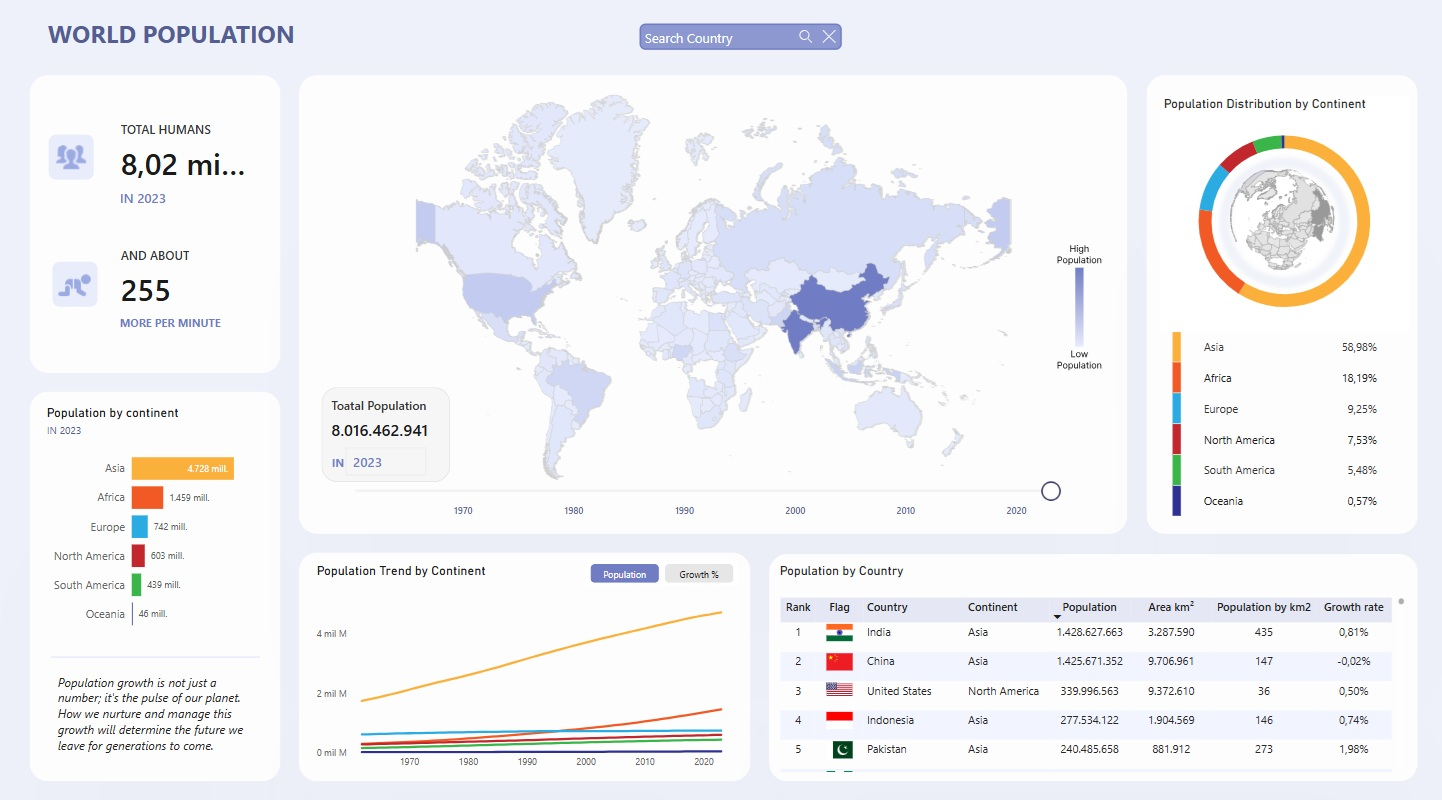

This screenshot's page, from the dashboard's own definition file:
{"tool":"powerbi","page":{"name":"Population","canvas":[1920,1080],"ordinal":0},"visuals":[{"type":"group","id":"g1","title":"Map","box":[401,101,1100,578.7],"z":0},{"type":"shapeMap","fields":{"Category":["Country2.Country"],"Value":["Sum(Country2.Value)"]},"box":[401.7,101.1,1099.3,578.6],"z":0,"group":"g1"},{"type":"shapeMap","fields":{"Category":["Countries.Country"],"Value":["Population.Latest Population Count"]},"box":[1625.3,216,162.6,166.8],"z":0,"group":"g3"},{"type":"clusteredColumnChart","fields":{"Y":["Population.Total Population 2"],"Category":["Years.Date"]},"box":[465.7,593.8,963.7,112],"z":0,"group":"g2"},{"type":"shapeMap","fields":{"Category":["Countries.Country"],"Value":["Population.Latest Population Count"]},"box":[401,101,1098.4,578],"z":1000,"group":"g1"},{"type":"shape","box":[1614.8,208.4,190,190],"z":1000,"group":"g3"},{"type":"slicer","fields":{"Values":["Years2.Years2"]},"box":[448,594.1,972.3,122.4],"z":1000,"group":"g2"},{"type":"tableEx","title":"Population by Country","fields":{"Values":["_Measures.Ranking","Countries.Flag","Countries.Country","Countries.Continent","Population.Latest Population Count","Countries.Area km²","Population.Population by km2","_Measures.Growth rate 2"]},"box":[1033.7,756.7,840.8,282.6],"z":1000},{"type":"tableEx","fields":{"Values":["Countries.Continent 2","Countries.Blank","Countries.Continent","Population.Latest Population Count"]},"box":[1554.7,395.6,319.8,314.3],"z":2000},{"type":"textbox","box":[422.7,608.6,41.3,34.5],"z":2000,"group":"g2"},{"type":"cardVisual","title":"TOTAL HUMANS","fields":{"Data":["Population.Latest Population Count"]},"box":[419,508.1,186.2,146.3],"z":3000},{"type":"lineChart","fields":{"Y":["_Measures.Total Population"],"Series":["Countries.Continent"],"Category":["Years.Year"]},"box":[418.2,757,568.7,282.4],"z":4000},{"type":"cardVisual","title":"TOTAL HUMANS","fields":{"Data":["Population.Latest Population Count"]},"box":[145,151.6,207.5,102.4],"z":5000},{"type":"cardVisual","title":"ABOUT","fields":{"Data":["Population.Birt Rate per minute"]},"box":[145.3,319.2,196.8,107.7],"z":6000},{"type":"multiRowCard","fields":{"Values":["Years.in Year label"]},"box":[155.9,254,115.7,42.6],"z":7000},{"type":"textbox","box":[155.6,421.6,174.2,50.5],"z":8000},{"type":"textbox","box":[60.3,25.5,365.8,63],"z":9000},{"type":"clusteredBarChart","title":"Population by continent","fields":{"Category":["Countries.Continent"],"Y":["_Measures.Latest Population Count"]},"box":[57.9,547.2,314.3,314.3],"z":10000},{"type":"textbox","box":[73.1,898.7,274.3,140.6],"z":11000},{"type":"advancedSlicerVisual","fields":{"Values":["Pop Parameter.Pop Parameter"]},"box":[780.7,754.1,203.5,33.3],"z":12000},{"type":"group","id":"g2","title":"year_slicer","box":[422.7,593.8,1006.6,122.6],"z":16000},{"type":"donutChart","title":"Population Distribution by Continent","fields":{"Category":["Countries.Continent"],"Y":["Population.Latest Population Count"]},"box":[1543.7,135.1,330.8,314.3],"z":17000},{"type":"group","id":"g3","title":"mini_map","box":[1614.8,208.4,190,190],"z":18000},{"type":"textSearchSlicerF85E2E78BE4A4D7D9F99ED75B5D71C85","fields":{"fields":["Countries.Country"]},"box":[841.9,29.3,288.6,58.5],"z":19000}]}

Visuals, with their boxes in screenshot pixels (x1, y1, x2, y2), scaled from the page's 1920x1080 canvas onto the 1442x800 screenshot:
"Map" group: <region>301, 75, 1127, 503</region>
shapeMap - Country2.Country x Sum(Country2.Value): <region>302, 75, 1127, 503</region>
shapeMap - Countries.Country x Population.Latest Population Count: <region>1221, 160, 1343, 284</region>
clusteredColumnChart - Population.Total Population 2 x Years.Date: <region>350, 440, 1074, 523</region>
shapeMap - Countries.Country x Population.Latest Population Count: <region>301, 75, 1126, 503</region>
shape: <region>1213, 154, 1355, 295</region>
slicer - Years2.Years2: <region>336, 440, 1067, 531</region>
"Population by Country" tableEx: <region>776, 561, 1408, 770</region>
tableEx - Countries.Continent 2 x Countries.Blank: <region>1168, 293, 1408, 526</region>
textbox: <region>317, 451, 348, 476</region>
"TOTAL HUMANS" cardVisual: <region>315, 376, 455, 485</region>
lineChart - _Measures.Total Population x Countries.Continent: <region>314, 561, 741, 770</region>
"TOTAL HUMANS" cardVisual: <region>109, 112, 265, 188</region>
"ABOUT" cardVisual: <region>109, 236, 257, 316</region>
multiRowCard - Years.in Year label: <region>117, 188, 204, 220</region>
textbox: <region>117, 312, 248, 350</region>
textbox: <region>45, 19, 320, 66</region>
"Population by continent" clusteredBarChart: <region>43, 405, 280, 638</region>
textbox: <region>55, 666, 261, 770</region>
advancedSlicerVisual - Pop Parameter.Pop Parameter: <region>586, 559, 739, 583</region>
"year_slicer" group: <region>317, 440, 1073, 531</region>
"Population Distribution by Continent" donutChart: <region>1159, 100, 1408, 333</region>
"mini_map" group: <region>1213, 154, 1355, 295</region>
textSearchSlicerF85E2E78BE4A4D7D9F99ED75B5D71C85 - Countries.Country: <region>632, 22, 849, 65</region>
